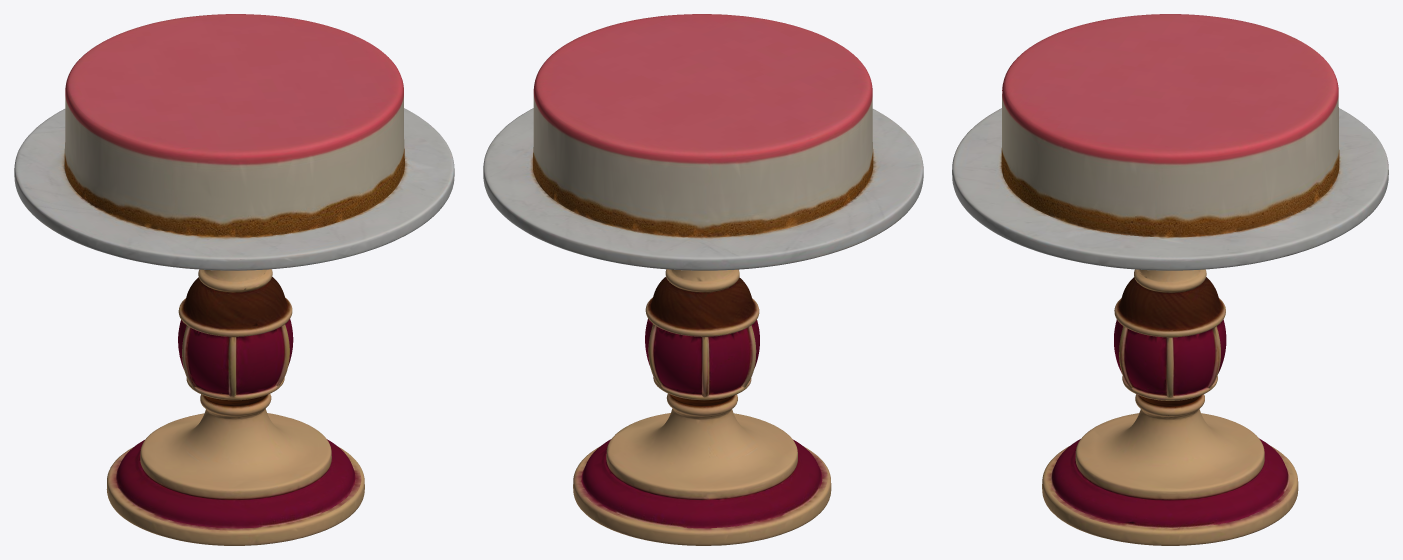
Rendered from cake_c.glb.
3 renders of one model, left to right at view 1: azimuth 30°, elevation 25°; view 2: azimuth 150°, elevation 25°; view 3: azimuth 270°, elevation 25°, orthographic.
Parts seen in each view (by area): view 1: material; view 2: material; view 3: material.
Boxes of the visible parts, x1,y1,x2,y2 form: material: (14, 14, 454, 545); material: (483, 14, 923, 545); material: (952, 14, 1388, 545).
Bounding box in the file's own units: 0.9424 × 0.9683 × 0.9359.
Materials: 1 (1 with a texture image).
